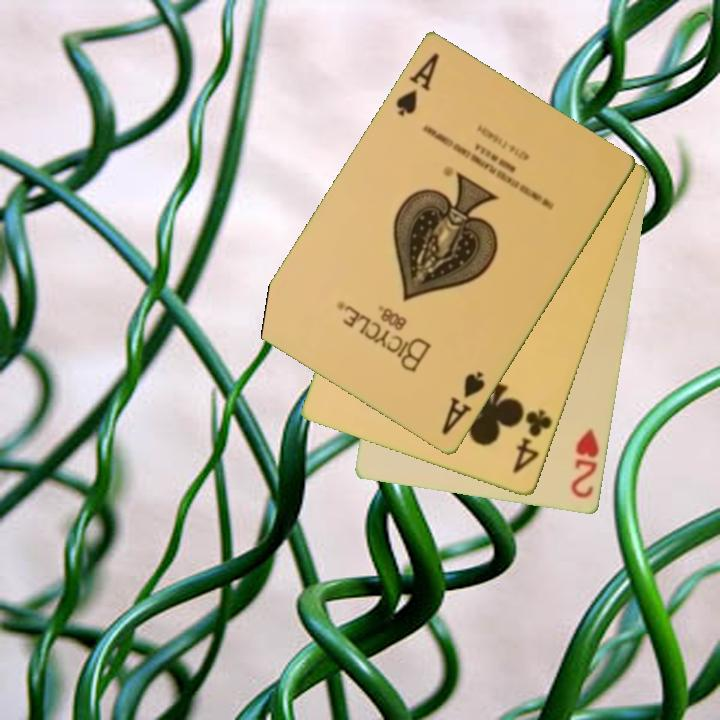2h: (567, 426, 603, 502)
4c: (509, 406, 556, 478)
As: (438, 367, 489, 439), (392, 49, 443, 120)
